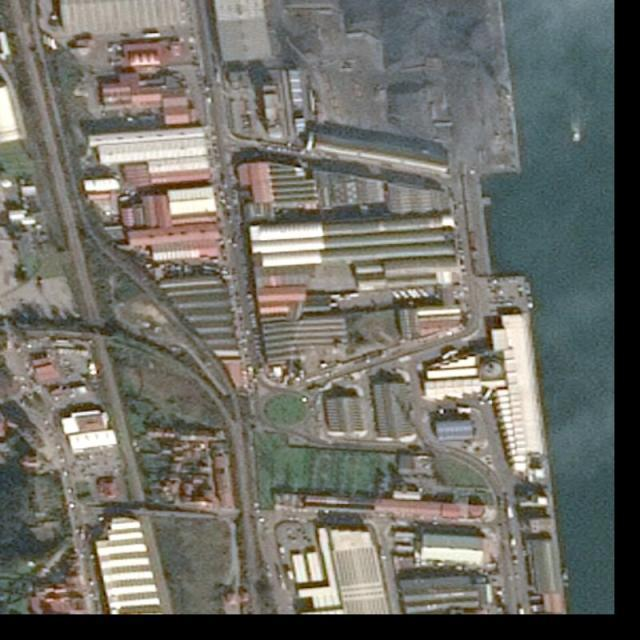ship: (573, 133, 582, 142)
